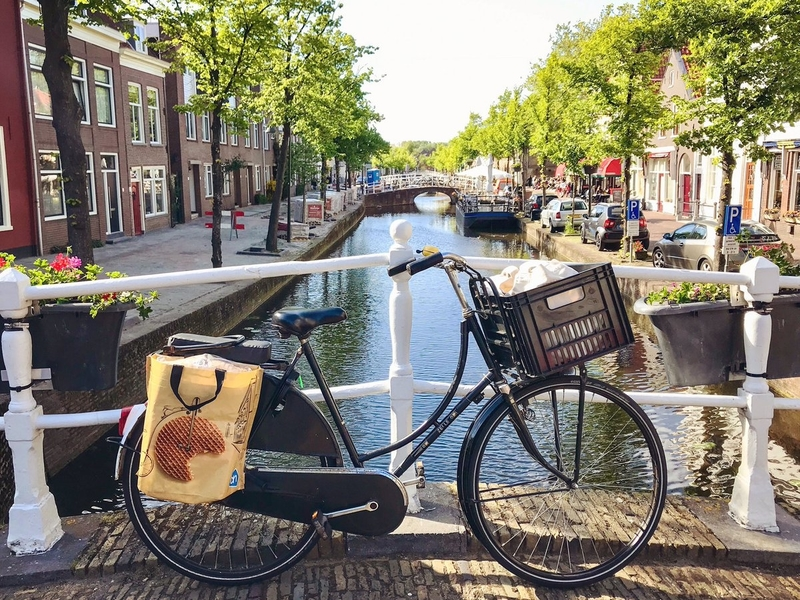bicycle: (104, 247, 670, 587)
